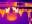Hotspot: (12, 7, 19, 13), (6, 8, 10, 13)
